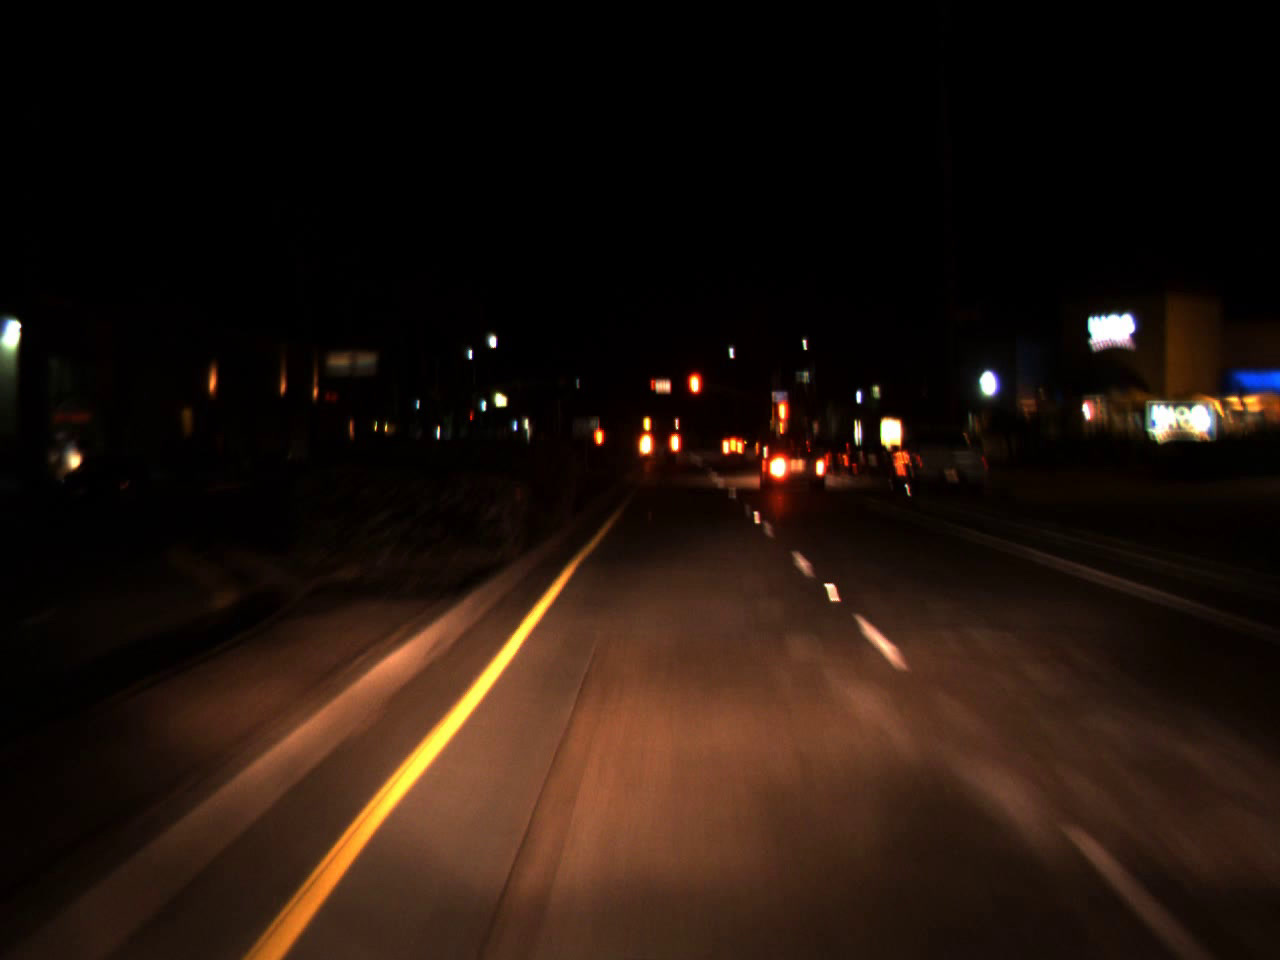stop: (772, 394, 794, 448), (686, 369, 704, 420), (649, 378, 656, 394)
